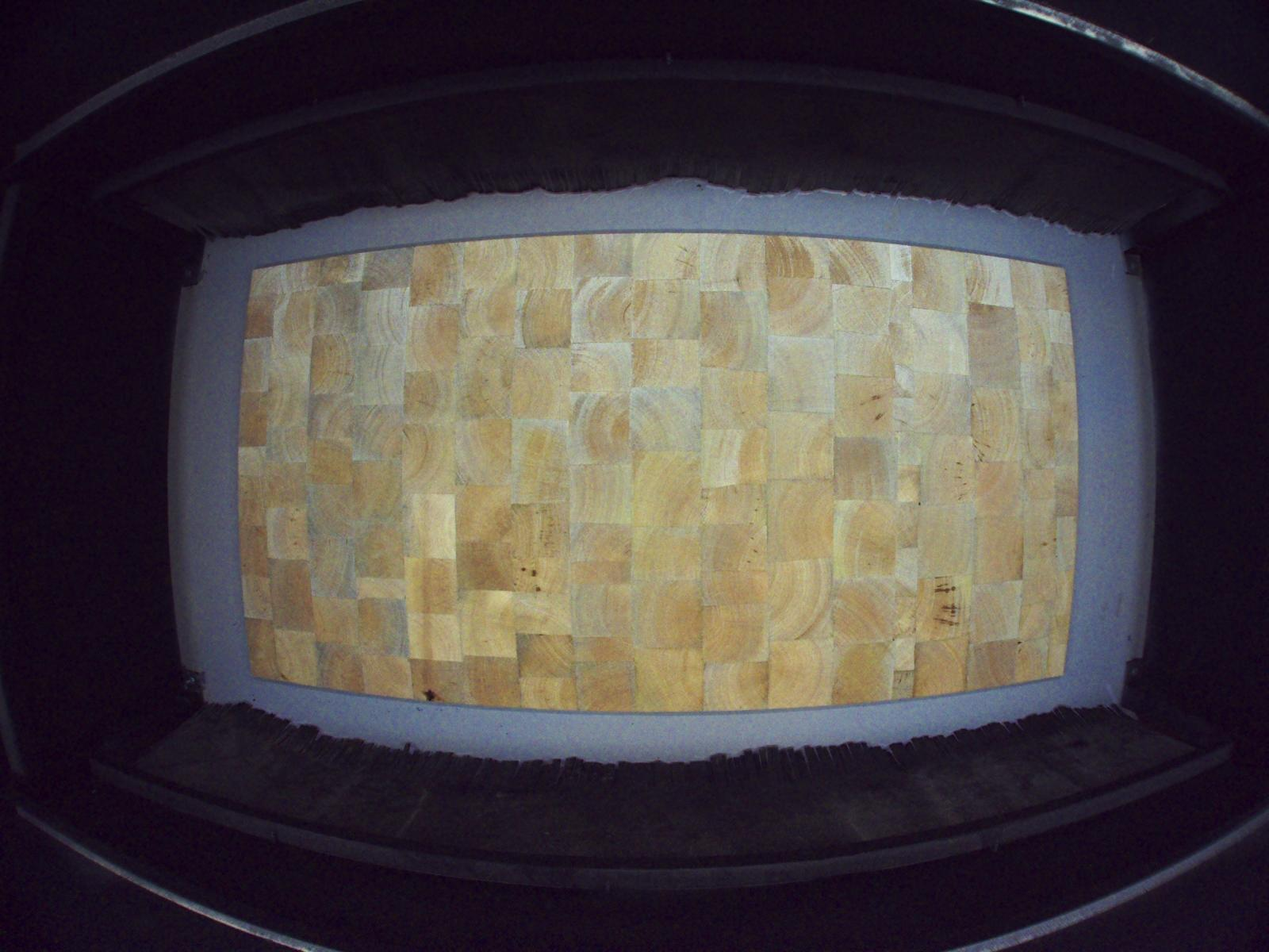nudillo: (418, 687, 447, 703)
